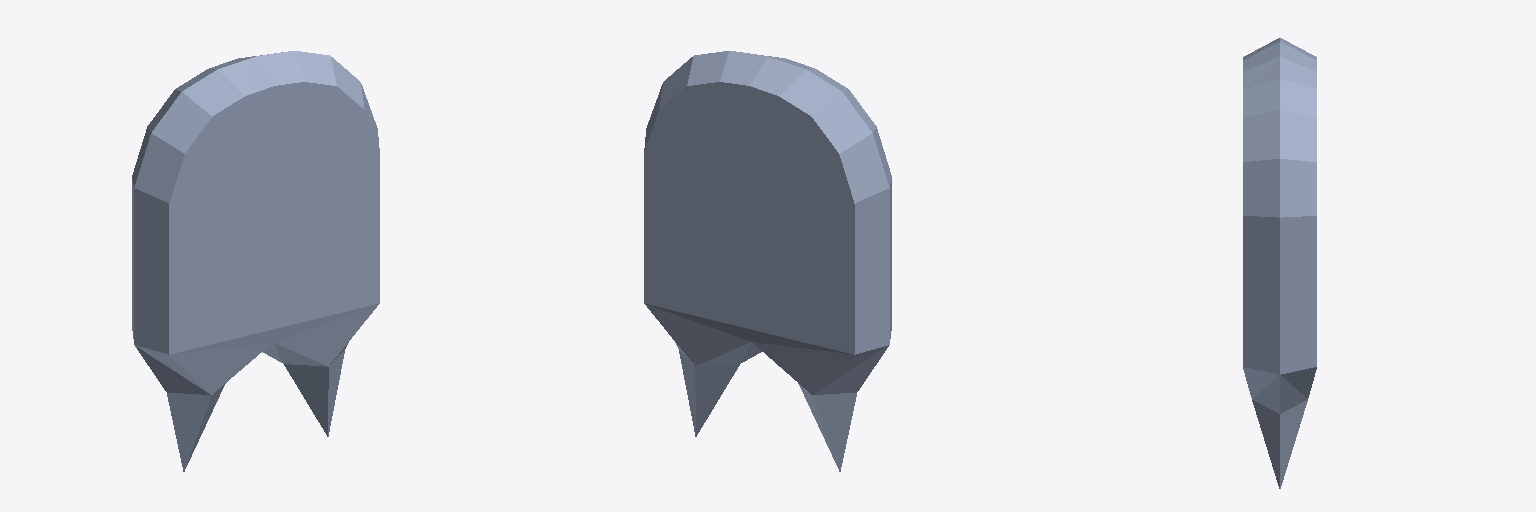
Rendered from Tooth.obj.
3 renders of one model, left to right at view 1: azimuth 30°, elevation 25°; view 2: azimuth 150°, elevation 25°; view 3: azimuth 270°, elevation 25°, orthographic.
Parts seen in each view (by area): view 1: Tooth1; view 2: Tooth1; view 3: Tooth1.
Part boxes in pixels (left/top/right/bottom): Tooth1: left=132, top=51, right=379, bottom=471; Tooth1: left=644, top=51, right=891, bottom=471; Tooth1: left=1243, top=38, right=1316, bottom=488.
Size of the model in its own units: 0.188 by 0.2946 by 0.05.